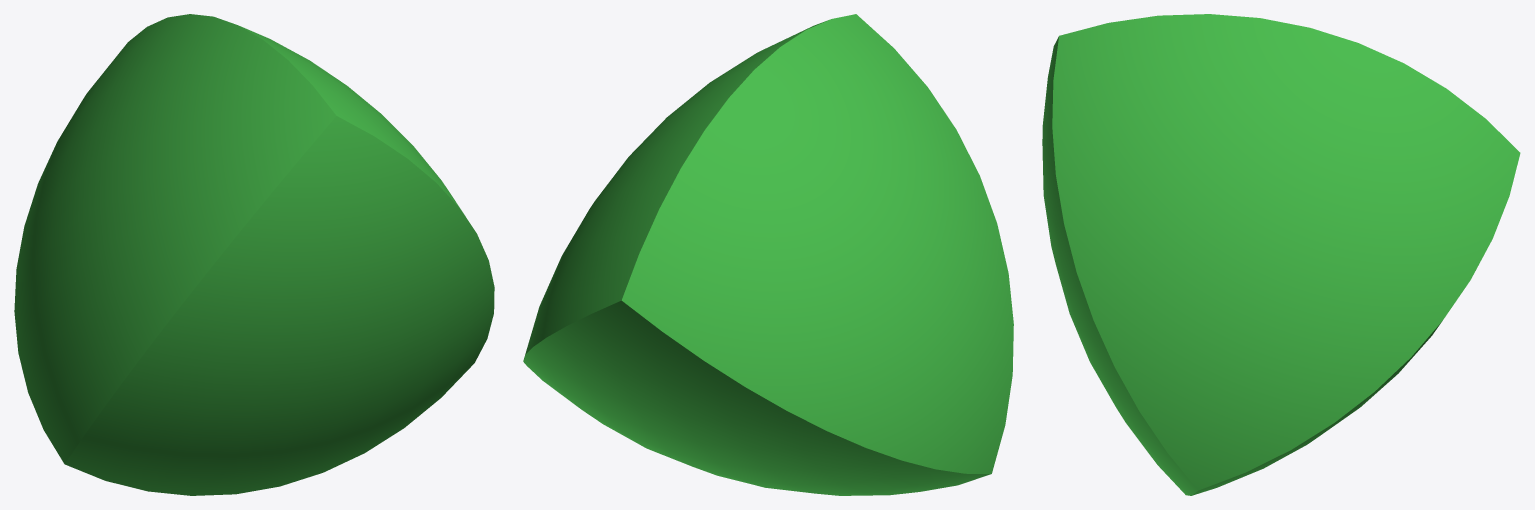
The model's file is TriballCustom-v2.glb.
3 views of the same model, side by side, from view 1: azimuth 30°, elevation 25°; view 2: azimuth 150°, elevation 25°; view 3: azimuth 270°, elevation 25° (orthographic). The views are drawn at different scales.
Visible parts, largest first — view 1: node_id3; view 2: node_id3; view 3: node_id3.
Boxes of the visible parts, left/top/right/bottom form: node_id3: left=14, top=14, right=494, bottom=495; node_id3: left=523, top=14, right=1013, bottom=495; node_id3: left=1042, top=14, right=1520, bottom=495.
Size of the model in its own units: 0.512 by 0.5217 by 0.5112.
1 material, 1 textured.
